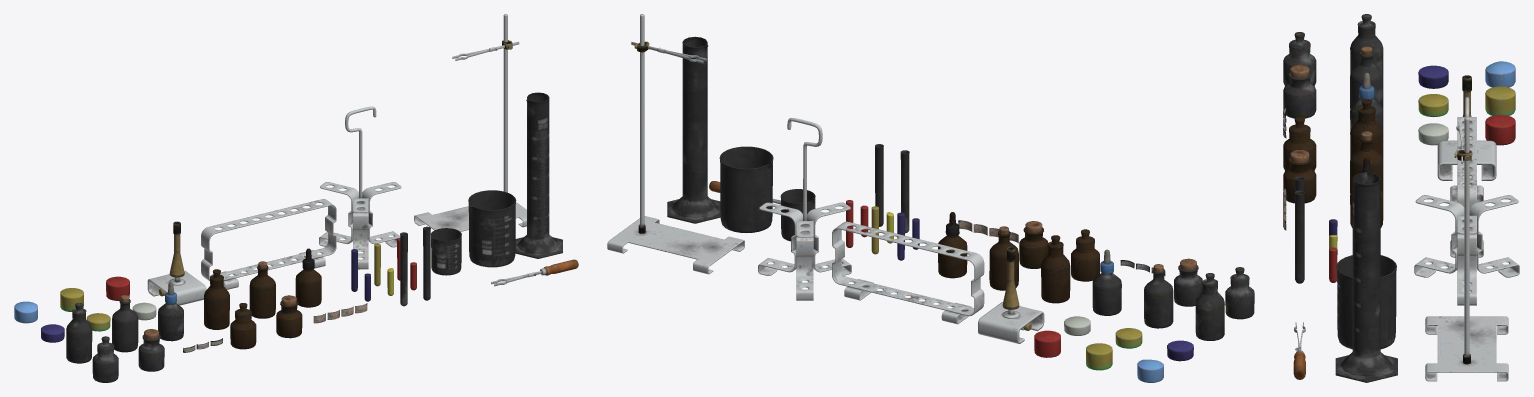
3 views of the same model, side by side, from view 1: azimuth 30°, elevation 25°; view 2: azimuth 150°, elevation 25°; view 3: azimuth 270°, elevation 25° (orthographic). The views are drawn at different scales.
Parts seen in each view (by area): view 1: chemistry_set_beaker_large, chemistry_set_beaker_med, chemistry_set_test_tube_stand_a, chemistry_set_test_tube_stand_b, chemistry_set_clamp_stand, chemistry_set_bunsen_burner, chemistry_set_beaker_small, chemistry_set_bottle_clear_c, chemistry_set_bottle_dark_c, chemistry_set_bottle_dark_d, chemistry_set_bottle_clear_d, chemistry_set_bottle_dark_e (+11 smaller); view 2: chemistry_set_beaker_large, chemistry_set_clamp_stand, chemistry_set_beaker_med, chemistry_set_test_tube_stand_a, chemistry_set_test_tube_stand_b, chemistry_set_bunsen_burner, chemistry_set_bottle_clear_c, chemistry_set_bottle_dark_c, chemistry_set_bottle_clear_d, chemistry_set_bottle_clear_e, chemistry_set_bottle_dark_d, chemistry_set_bottle_clear_a (+10 smaller); view 3: chemistry_set_beaker_large, chemistry_set_clamp_stand, chemistry_set_test_tube_stand_b, chemistry_set_beaker_med, chemistry_set_bunsen_burner, chemistry_set_test_tube_stand_a, chemistry_set_bottle_clear_b, chemistry_set_bottle_clear_d, chemistry_set_bottle_dark_b, chemistry_set_bottle_dark_c, chemistry_set_bottle_clear_c, chemistry_set_bottle_dark_d (+16 smaller).
Boxes of the visible parts, box(x1,y1,x2,y2) form: chemistry_set_beaker_large: box(515, 92, 562, 258); chemistry_set_beaker_med: box(468, 190, 516, 267); chemistry_set_test_tube_stand_a: box(201, 199, 336, 289); chemistry_set_test_tube_stand_b: box(319, 106, 401, 269); chemistry_set_clamp_stand: box(414, 14, 526, 231); chemistry_set_bunsen_burner: box(147, 221, 206, 305); chemistry_set_beaker_small: box(430, 228, 461, 275); chemistry_set_bottle_clear_c: box(66, 308, 92, 363); chemistry_set_bottle_dark_c: box(204, 275, 229, 329); chemistry_set_bottle_dark_d: box(249, 265, 275, 318); chemistry_set_bottle_clear_d: box(112, 299, 138, 352); chemistry_set_bottle_dark_e: box(295, 269, 321, 307); chemistry_set_beaker_large: box(667, 36, 720, 223); chemistry_set_clamp_stand: box(607, 14, 744, 274); chemistry_set_beaker_med: box(719, 146, 773, 232); chemistry_set_test_tube_stand_a: box(832, 221, 984, 324); chemistry_set_test_tube_stand_b: box(758, 118, 851, 300); chemistry_set_bunsen_burner: box(978, 247, 1044, 343); chemistry_set_bottle_clear_c: box(1195, 279, 1224, 340); chemistry_set_bottle_dark_c: box(1041, 241, 1070, 303); chemistry_set_bottle_clear_d: box(1144, 268, 1173, 328); chemistry_set_bottle_clear_e: box(1092, 273, 1121, 315); chemistry_set_bottle_dark_d: box(989, 231, 1018, 290); chemistry_set_bottle_clear_a: box(1225, 274, 1254, 319); chemistry_set_beaker_large: box(1335, 172, 1397, 382); chemistry_set_clamp_stand: box(1425, 117, 1508, 381); chemistry_set_test_tube_stand_b: box(1414, 97, 1519, 305); chemistry_set_beaker_med: box(1336, 255, 1396, 349); chemistry_set_bunsen_burner: box(1437, 75, 1496, 180); chemistry_set_test_tube_stand_a: box(1450, 117, 1483, 257); chemistry_set_bottle_clear_b: box(1283, 72, 1316, 118); chemistry_set_bottle_clear_d: box(1350, 52, 1383, 109); chemistry_set_bottle_dark_b: box(1283, 157, 1316, 203); chemistry_set_bottle_dark_c: box(1350, 106, 1383, 159); chemistry_set_bottle_clear_c: box(1350, 21, 1383, 74); chemistry_set_bottle_dark_d: box(1350, 136, 1383, 193).
Size of the model in its own units: 1.08 by 0.429 by 0.3539.
Materials: 2 (2 with a texture image).
